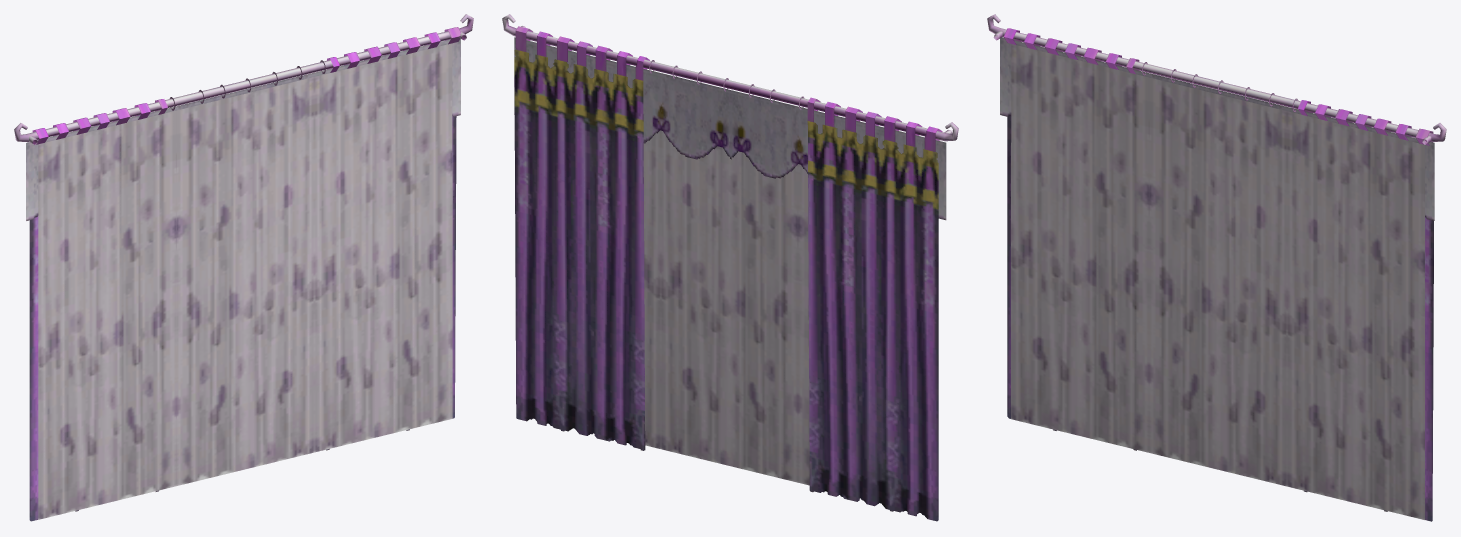
The model's file is furni_0200530_03.FBX.
3 renders of one model, left to right at view 1: azimuth 30°, elevation 25°; view 2: azimuth 150°, elevation 25°; view 3: azimuth 330°, elevation 25°, orthographic.
Parts seen in each view (by area): view 1: furni_0200530_03; view 2: furni_0200530_03; view 3: furni_0200530_03.
Boxes of the visible parts, x1,y1,x2,y2 form: furni_0200530_03: [14, 14, 473, 521]; furni_0200530_03: [502, 14, 958, 521]; furni_0200530_03: [987, 14, 1446, 521].
Size of the model in its own units: 328 by 277 by 11.25.
Materials: 2 (2 with a texture image).
